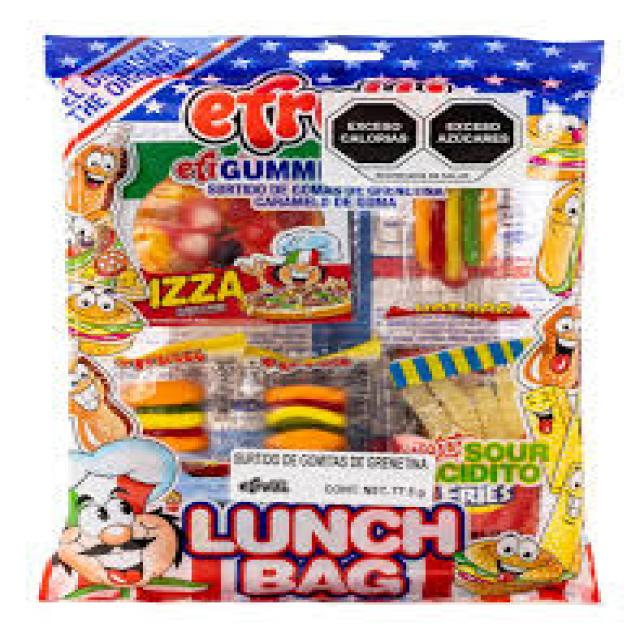Paquete: (39, 24, 602, 602)
